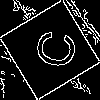C: (25, 25, 78, 72)
